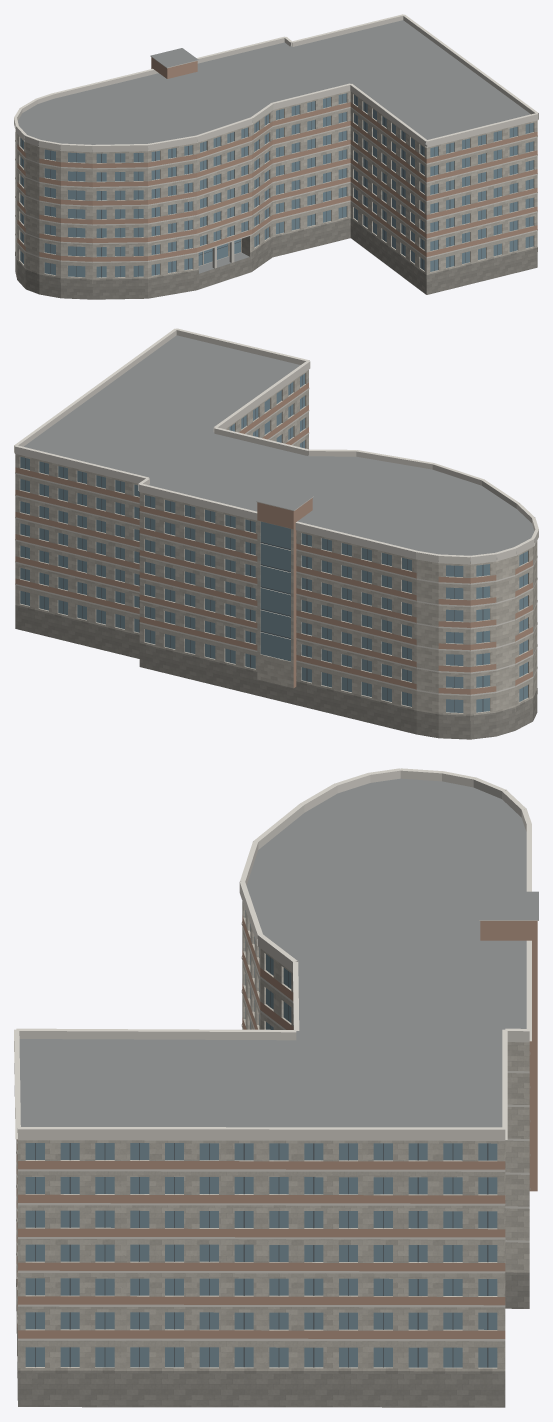
3 views of the same model, one above another, from view 1: azimuth 30°, elevation 25°; view 2: azimuth 150°, elevation 25°; view 3: azimuth 270°, elevation 25° (orthographic). The views are drawn at different scales.
Visible parts, largest first — view 1: eng1__wall, eng1__roof, eng1__glass, eng1__wall2, eng1__trim, eng1__base, eng1__frame; view 2: eng1__wall, eng1__roof, eng1__glass, eng1__wall2, eng1__trim, eng1__base, eng1__frame; view 3: eng1__roof, eng1__wall, eng1__glass, eng1__wall2, eng1__trim, eng1__base, eng1__frame.
Part boxes in pixels (bbox=[...]): eng1__wall: bbox=[15, 91, 537, 283]; eng1__roof: bbox=[18, 20, 530, 273]; eng1__glass: bbox=[20, 93, 533, 277]; eng1__wall2: bbox=[17, 57, 537, 261]; eng1__trim: bbox=[14, 14, 538, 262]; eng1__base: bbox=[15, 218, 537, 299]; eng1__frame: bbox=[22, 94, 529, 277]; eng1__wall: bbox=[15, 370, 537, 720]; eng1__roof: bbox=[24, 335, 534, 561]; eng1__glass: bbox=[20, 373, 527, 712]; eng1__wall2: bbox=[15, 382, 532, 694]; eng1__trim: bbox=[14, 328, 538, 695]; eng1__base: bbox=[15, 605, 537, 739]; eng1__frame: bbox=[25, 375, 523, 712]; eng1__roof: bbox=[17, 778, 538, 1129]; eng1__wall: bbox=[16, 901, 529, 1371]; eng1__glass: bbox=[25, 910, 497, 1367]; eng1__wall2: bbox=[16, 915, 537, 1338]; eng1__trim: bbox=[14, 768, 538, 1341]; eng1__base: bbox=[16, 1272, 529, 1407]; eng1__frame: bbox=[35, 957, 488, 1367].
Size of the model in its own units: 86.97 by 33.7 by 53.4.
9 materials, 2 textured.
